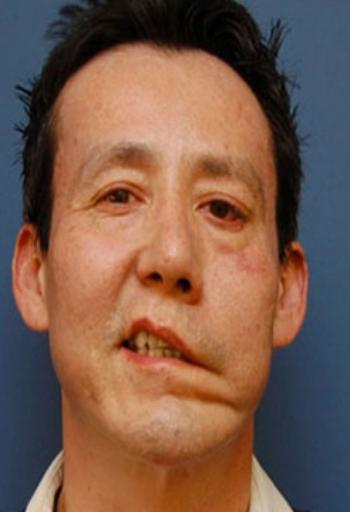left_eye: (196, 199, 249, 227)
left_lip_corner: (188, 348, 227, 381)
right_eye: (93, 188, 149, 215)
right_lip_corner: (111, 336, 131, 359)
